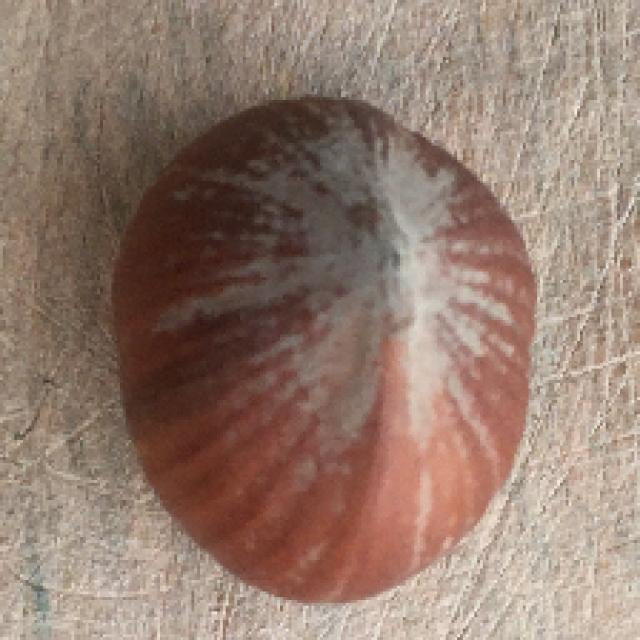damagedHazelnut: (116, 89, 540, 610)
